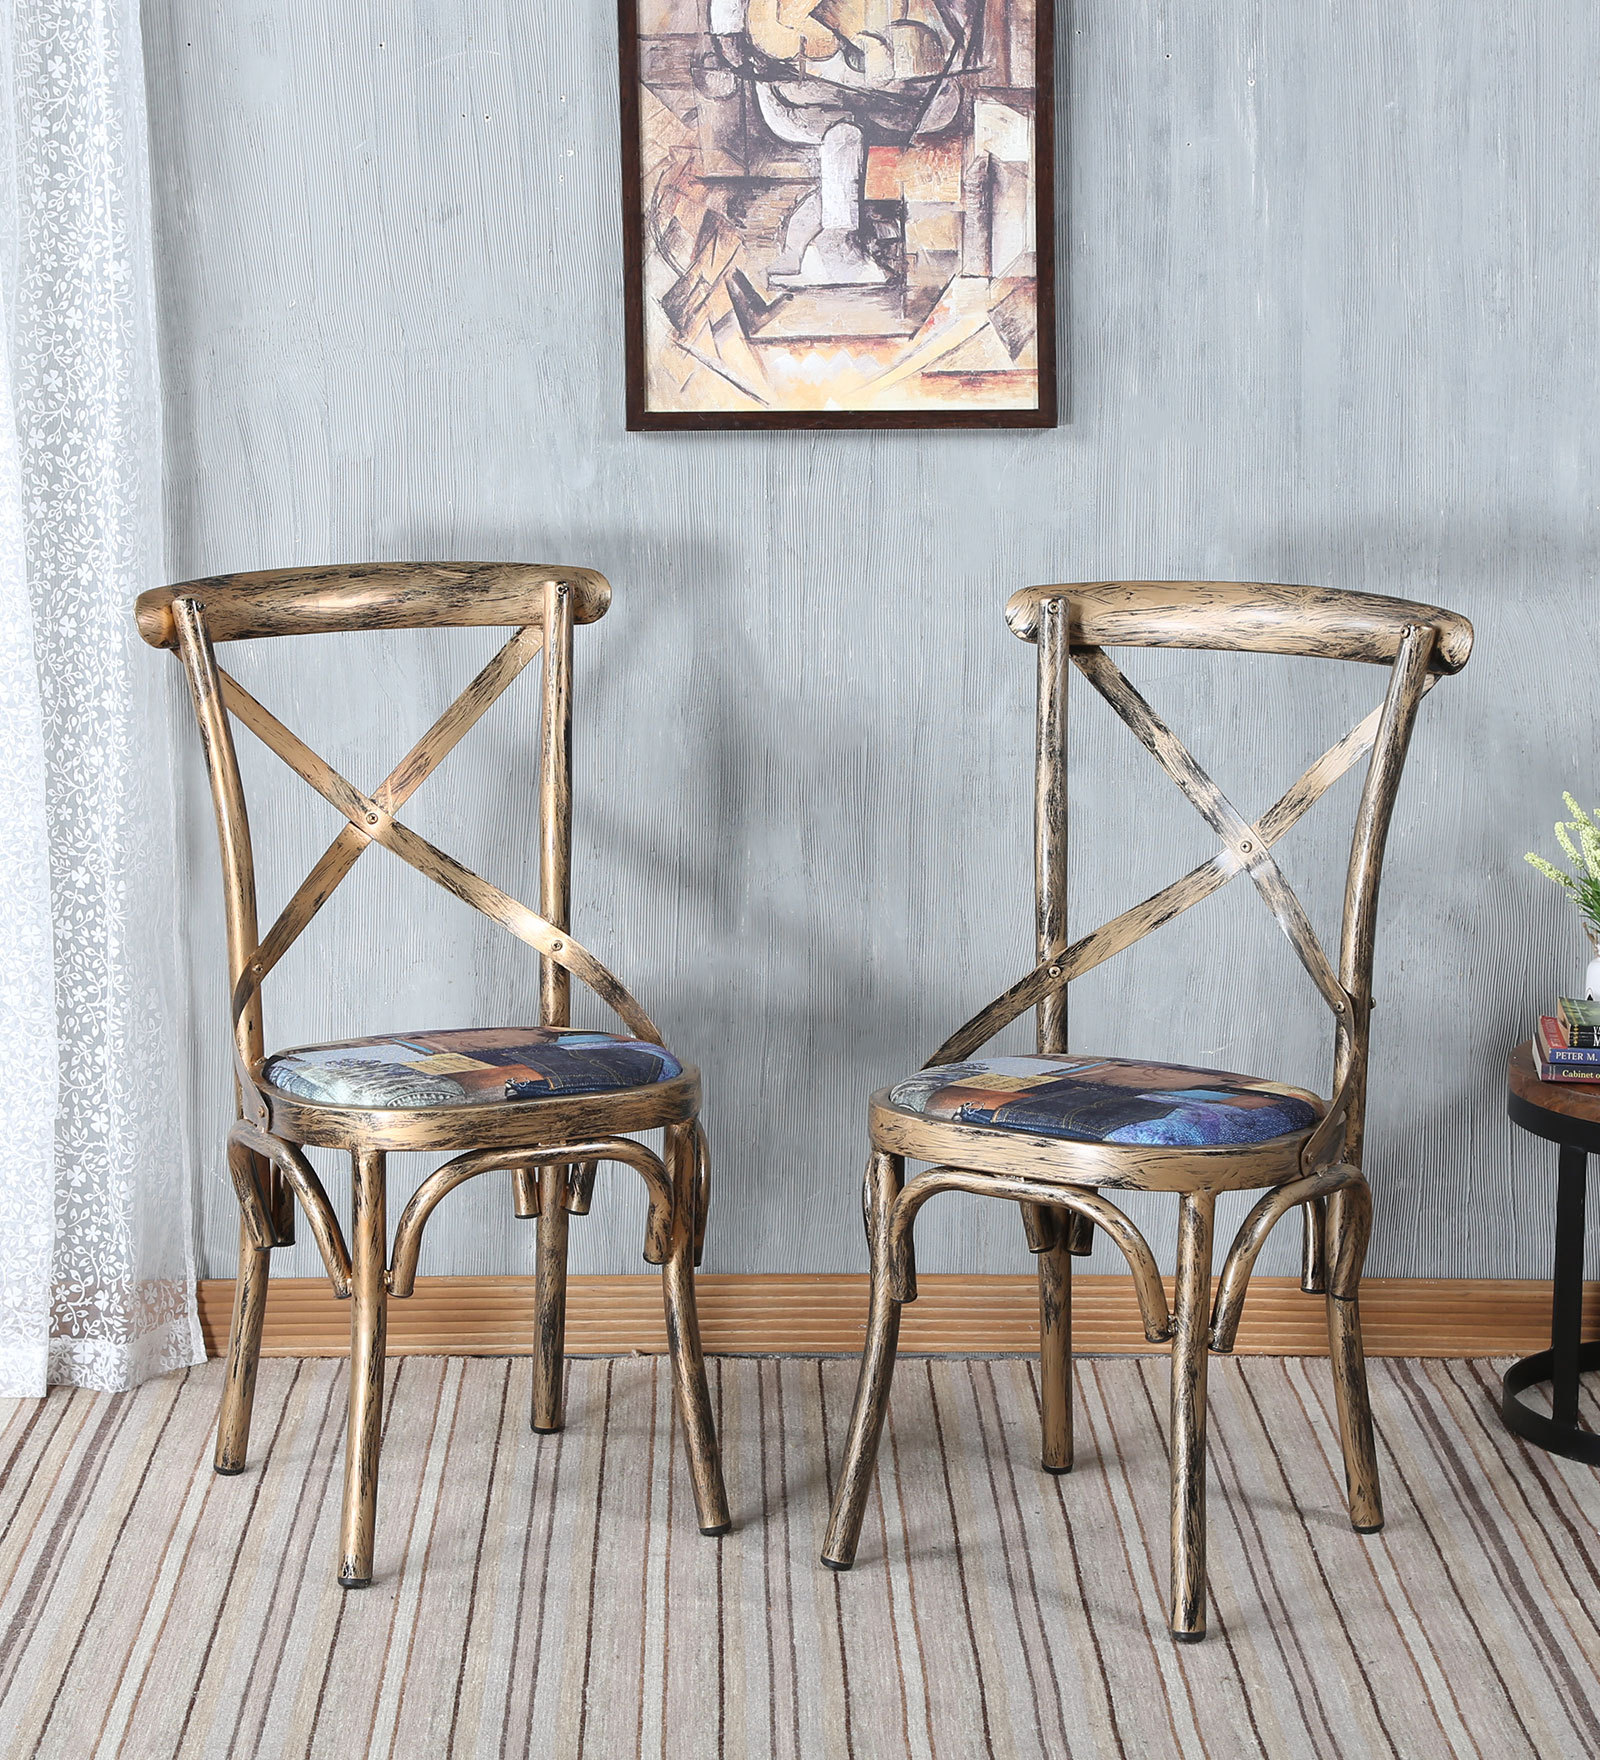Stanrock Metal Chair (Set of 2) in Antique Bronze by Bohemiana: (841, 511, 1445, 1653), (146, 534, 759, 1643)
